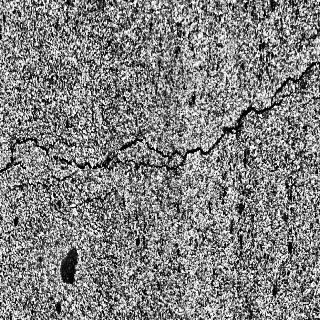crack: (1, 62, 320, 180)
